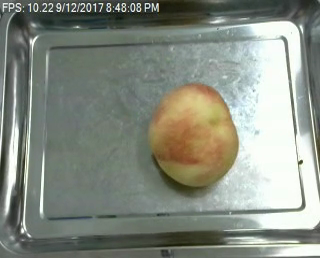Peach: (149, 82, 239, 187)
